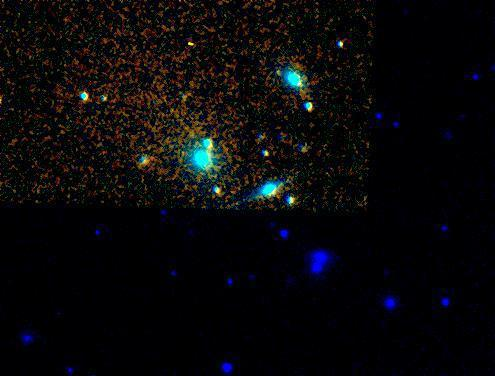star: (262, 57, 292, 87)
